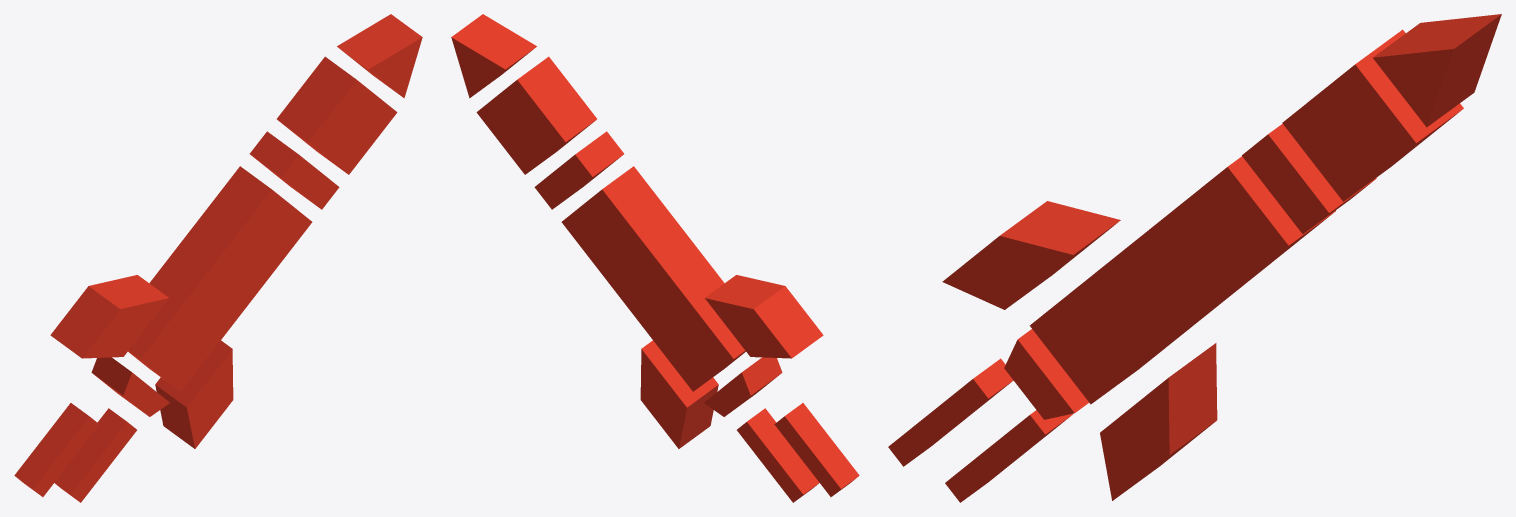
File: Icon_Missile_02.fbx
3 renders of one model, left to right at view 1: azimuth 30°, elevation 25°; view 2: azimuth 150°, elevation 25°; view 3: azimuth 330°, elevation 25°, orthographic. The views are drawn at different scales.
Visible parts, largest first — view 1: Icon_Missile_02; view 2: Icon_Missile_02; view 3: Icon_Missile_02.
Boxes of the visible parts, x1,y1,x2,y2 form: Icon_Missile_02: [14, 14, 422, 502]; Icon_Missile_02: [451, 14, 859, 502]; Icon_Missile_02: [888, 14, 1501, 502].
Bounding box in the file's own units: 84.17 × 81.58 × 12.06.
